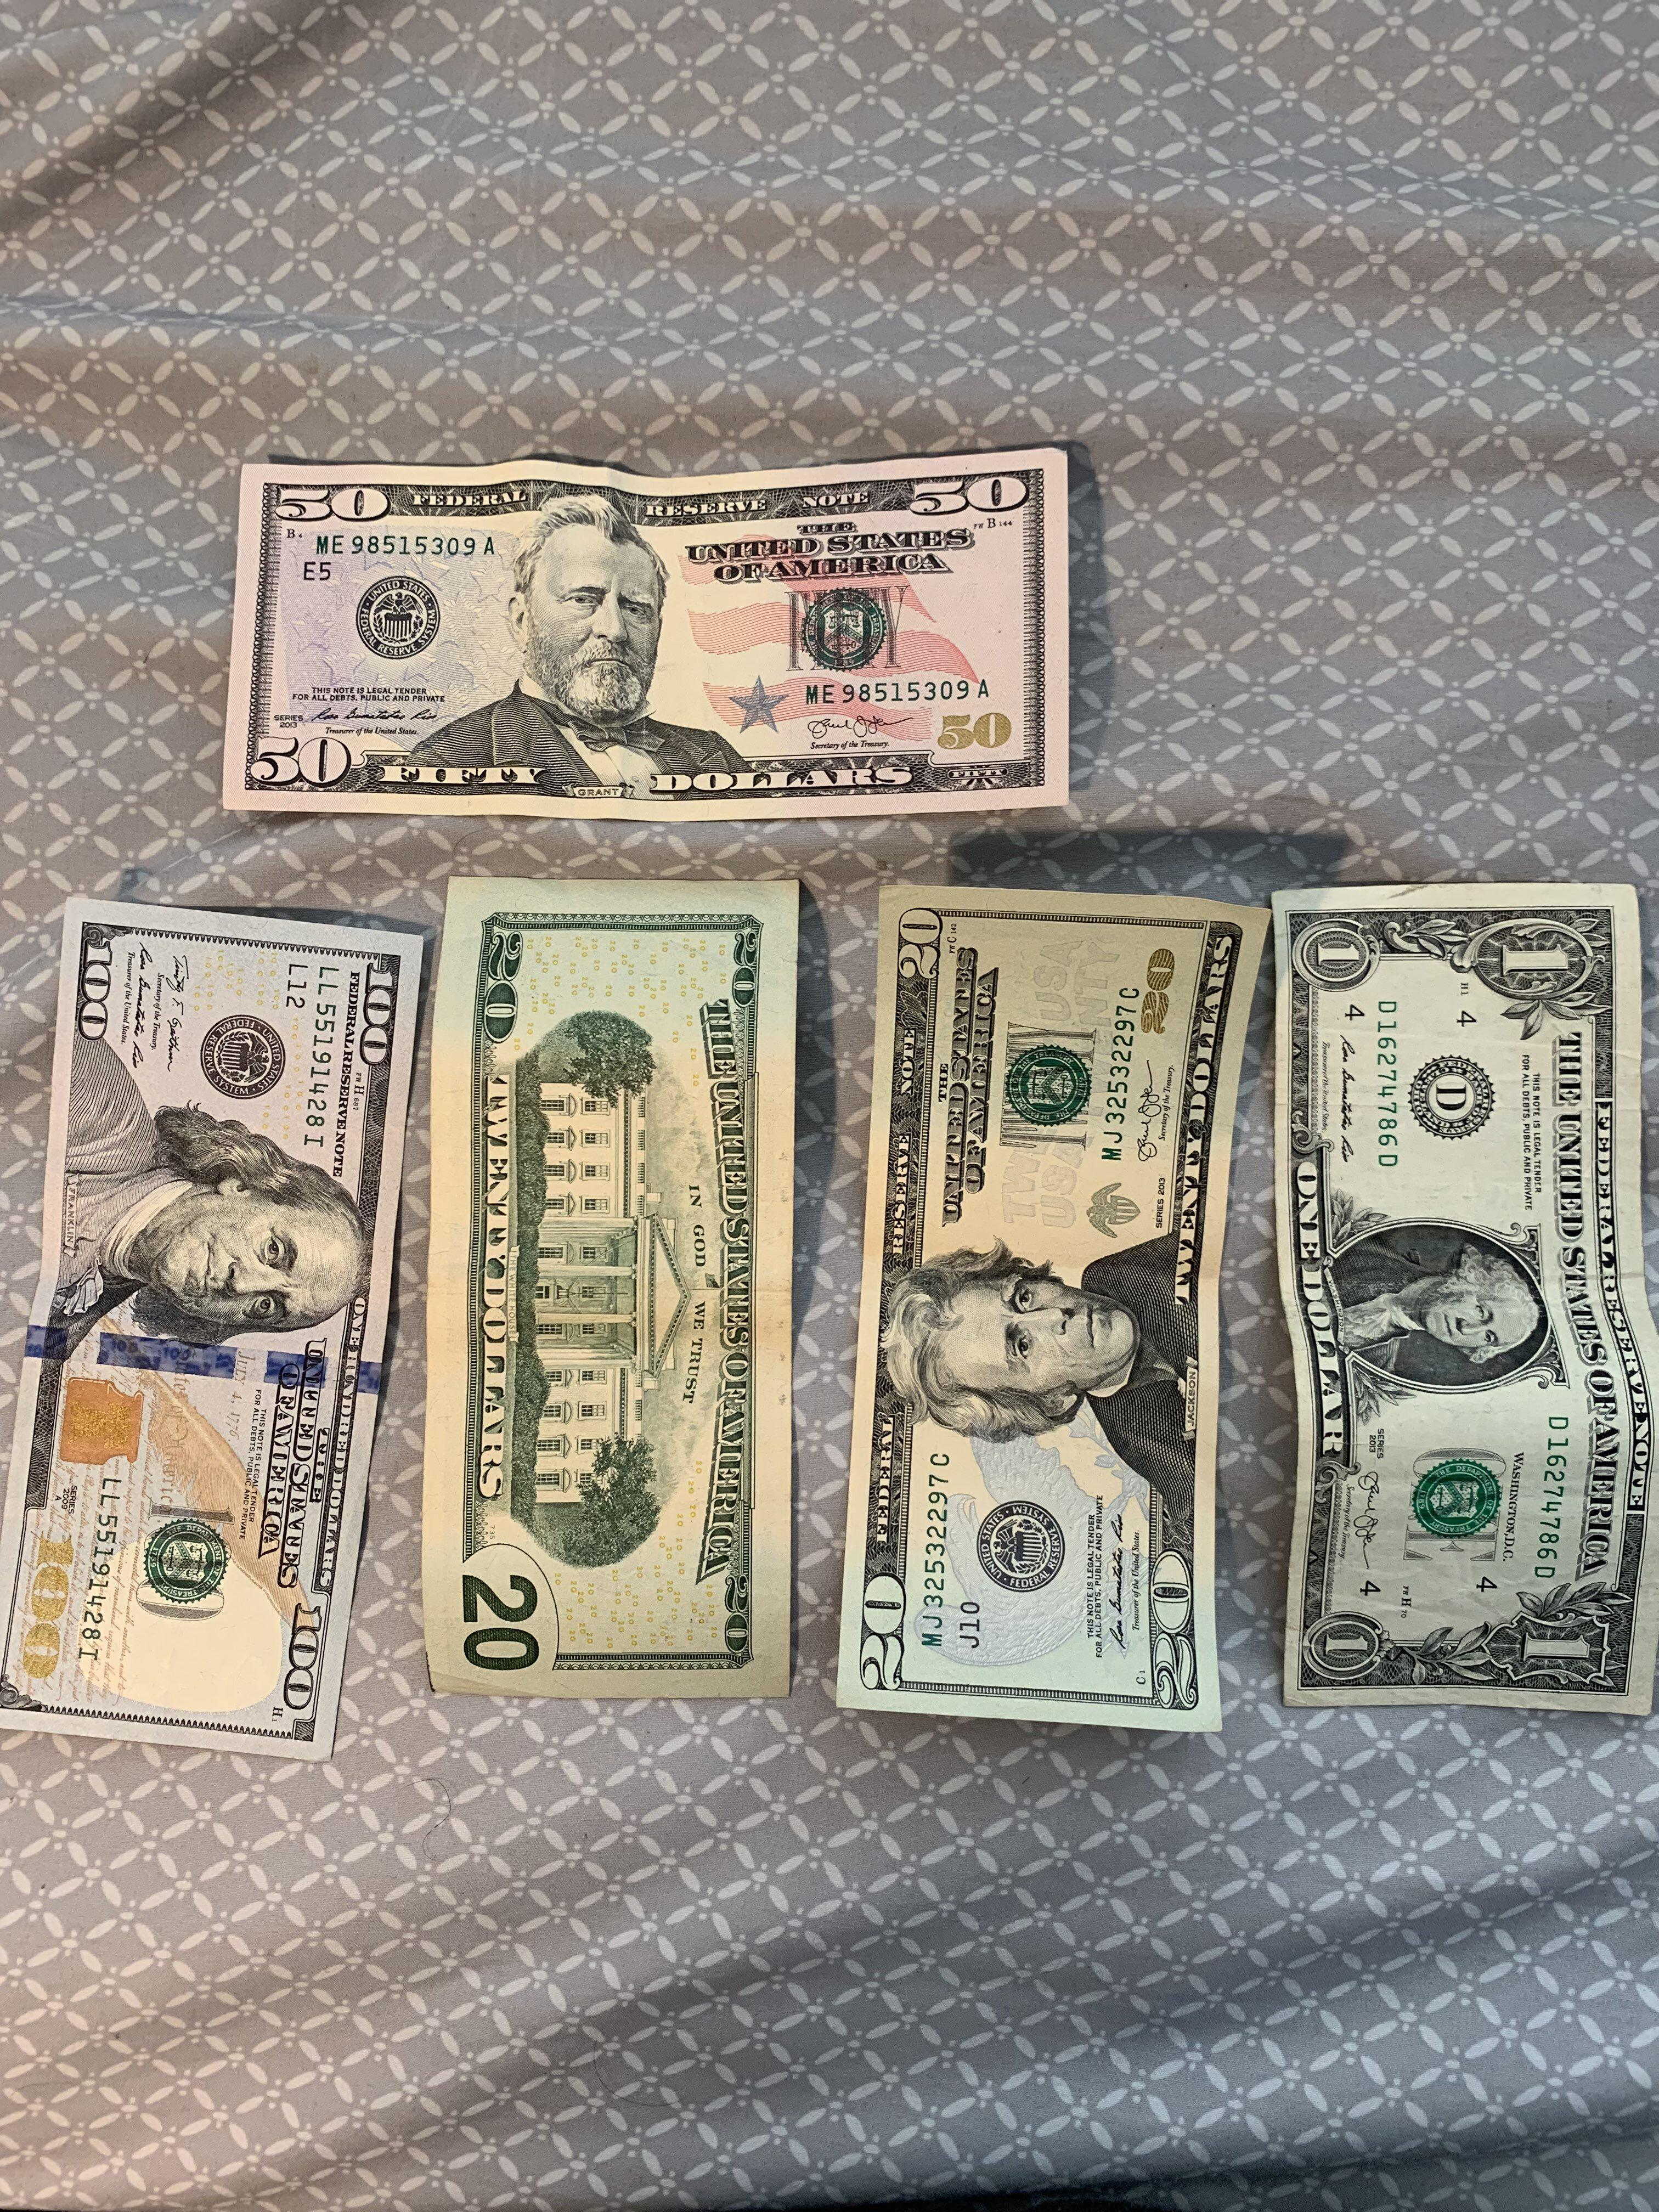FiftyBill: (186, 418, 1114, 843)
HundredBill: (2, 867, 430, 1784)
OneBill: (1243, 862, 1657, 1731)
TwentyBill: (816, 852, 1274, 1745), (413, 843, 816, 1747)
